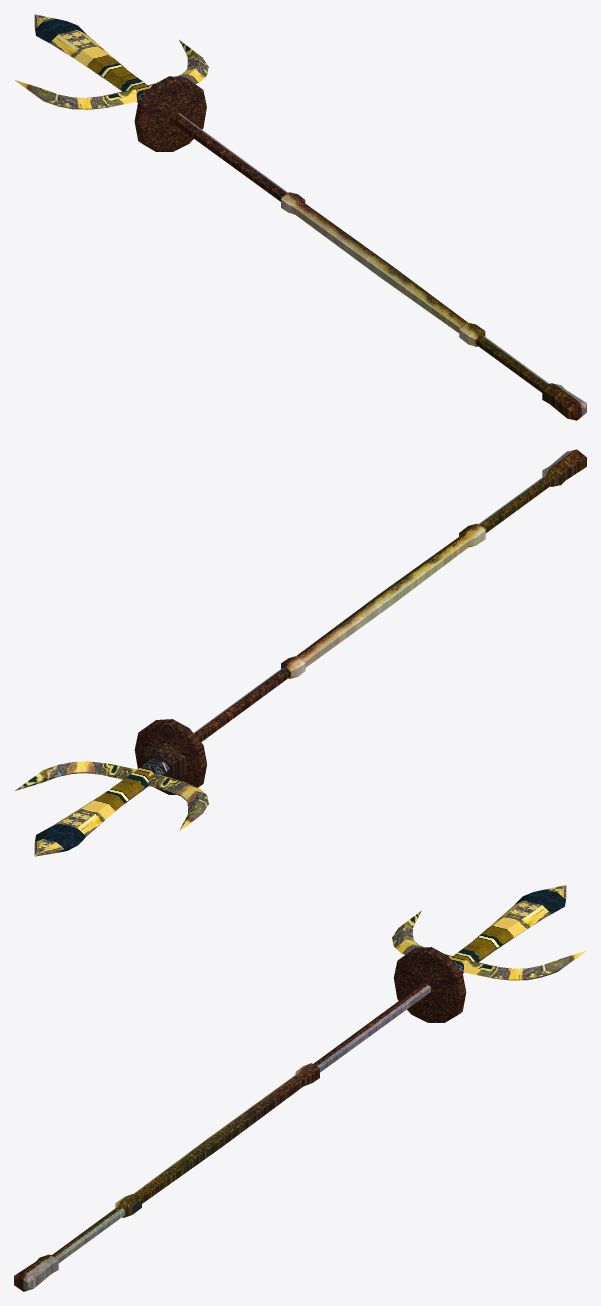
File: weapon__test_gacha1_nihongou_gacha1.glb
3 renders of one model, top to bottom at view 1: azimuth 30°, elevation 25°; view 2: azimuth 150°, elevation 25°; view 3: azimuth 330°, elevation 25°, orthographic.
Bounding box in the file's own units: 0.6016 × 0.2554 × 3.44.
Materials: 1 (1 with a texture image).
